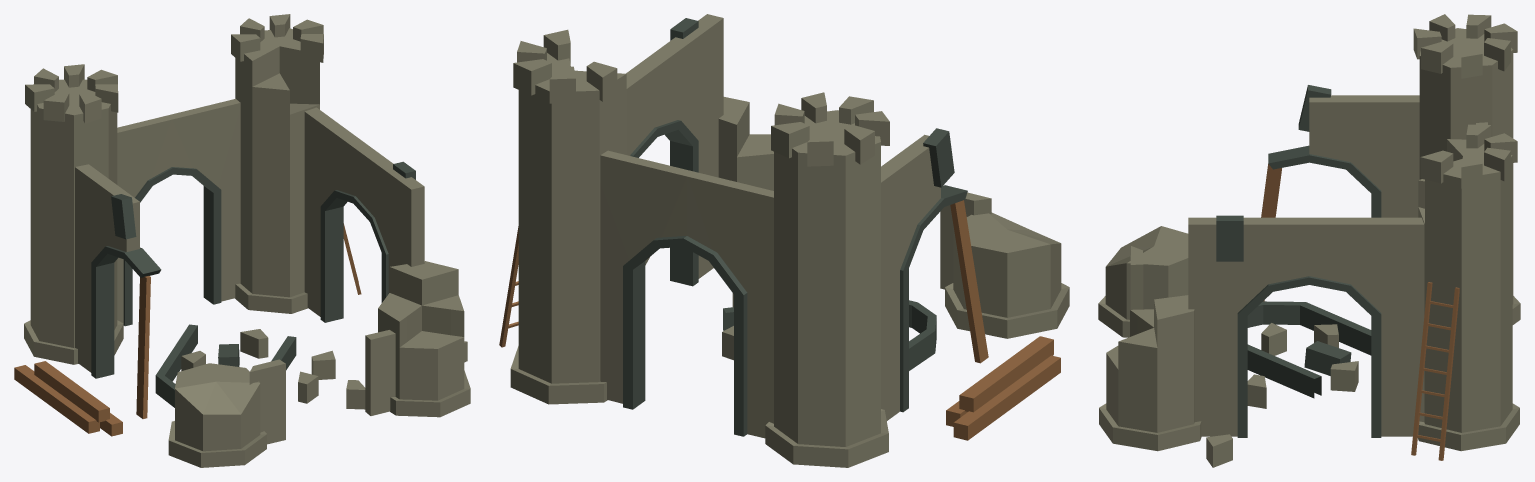
File: Castle_build_mat.fbx
3 renders of one model, left to right at view 1: azimuth 30°, elevation 25°; view 2: azimuth 150°, elevation 25°; view 3: azimuth 270°, elevation 25°, orthographic. The views are drawn at different scales.
Visible parts, largest first — view 1: Castle_build_mat; view 2: Castle_build_mat; view 3: Castle_build_mat.
Part boxes in pixels (left/top/right/bottom): Castle_build_mat: left=14, top=14, right=470, bottom=467; Castle_build_mat: left=499, top=14, right=1069, bottom=467; Castle_build_mat: left=1098, top=14, right=1520, bottom=467.
Size of the model in its own units: 5.64 by 3.89 by 5.19.
